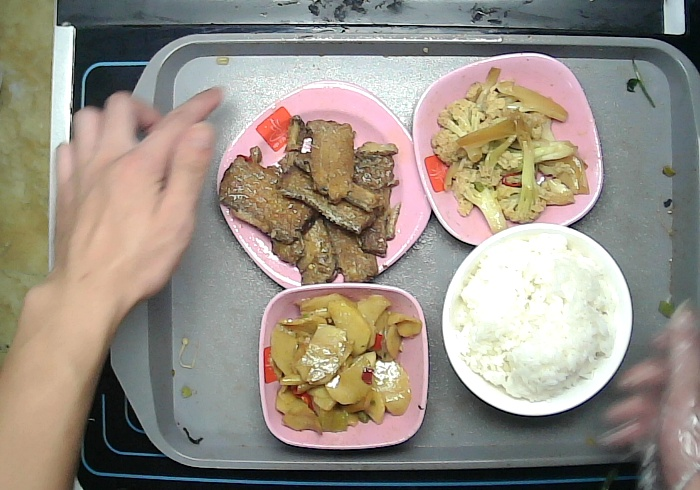SHKJ-Fan_Wan: (442, 220, 635, 425)
SHKJ-Fen_Se_Cai_Die: (410, 50, 606, 246)
SHKJ-Fen_Se_Si_Fang_Cai_Die: (213, 78, 433, 292)
SHKJ-Fen_Se_Xiao_Fang_Die: (253, 279, 438, 452)
